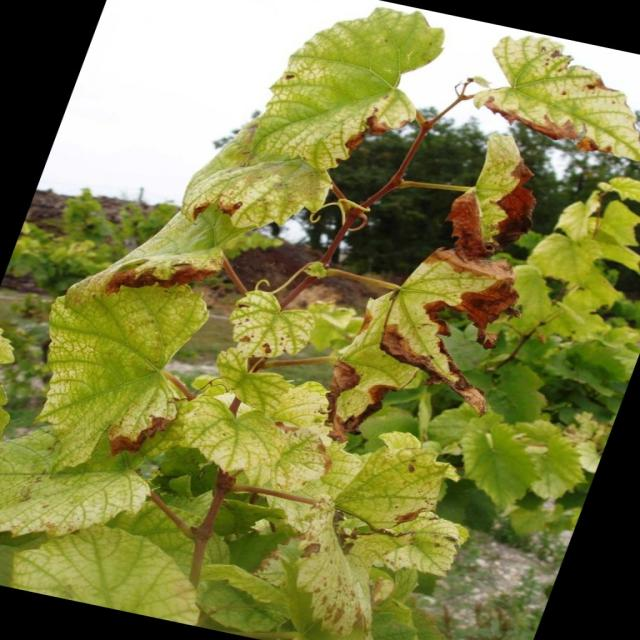Chlorosis: (17, 15, 618, 637)
